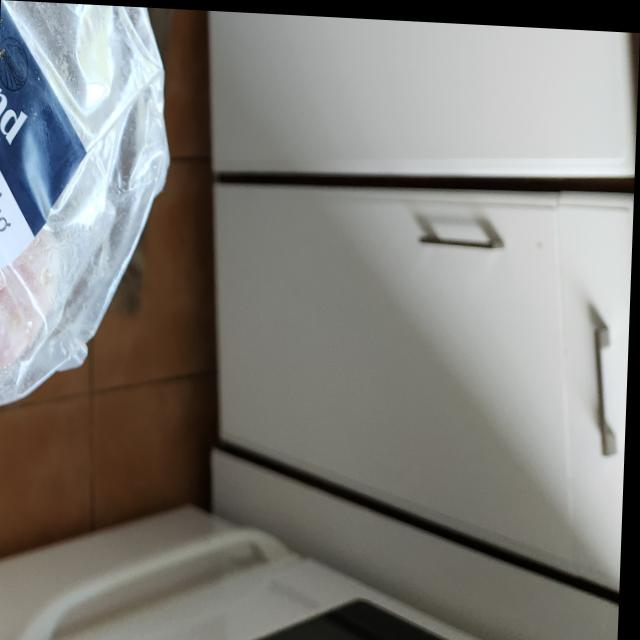bacon: (0, 0, 171, 422)
